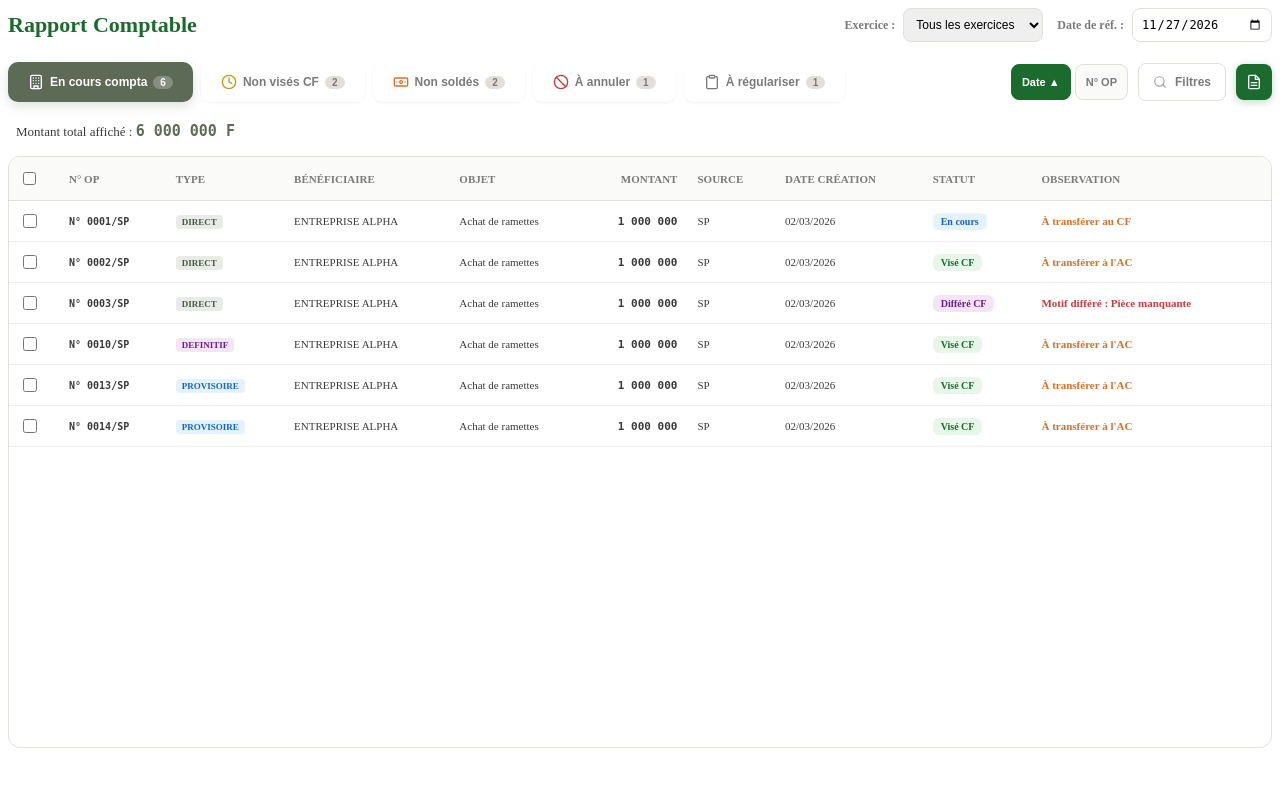
Test case: Rapport — À régulariser › le délai de régularisation est compté en jours calendaires
Type "2026-03-23" into the date field at (1202,25), box x1=1132 y1=8 x2=1272 y2=42
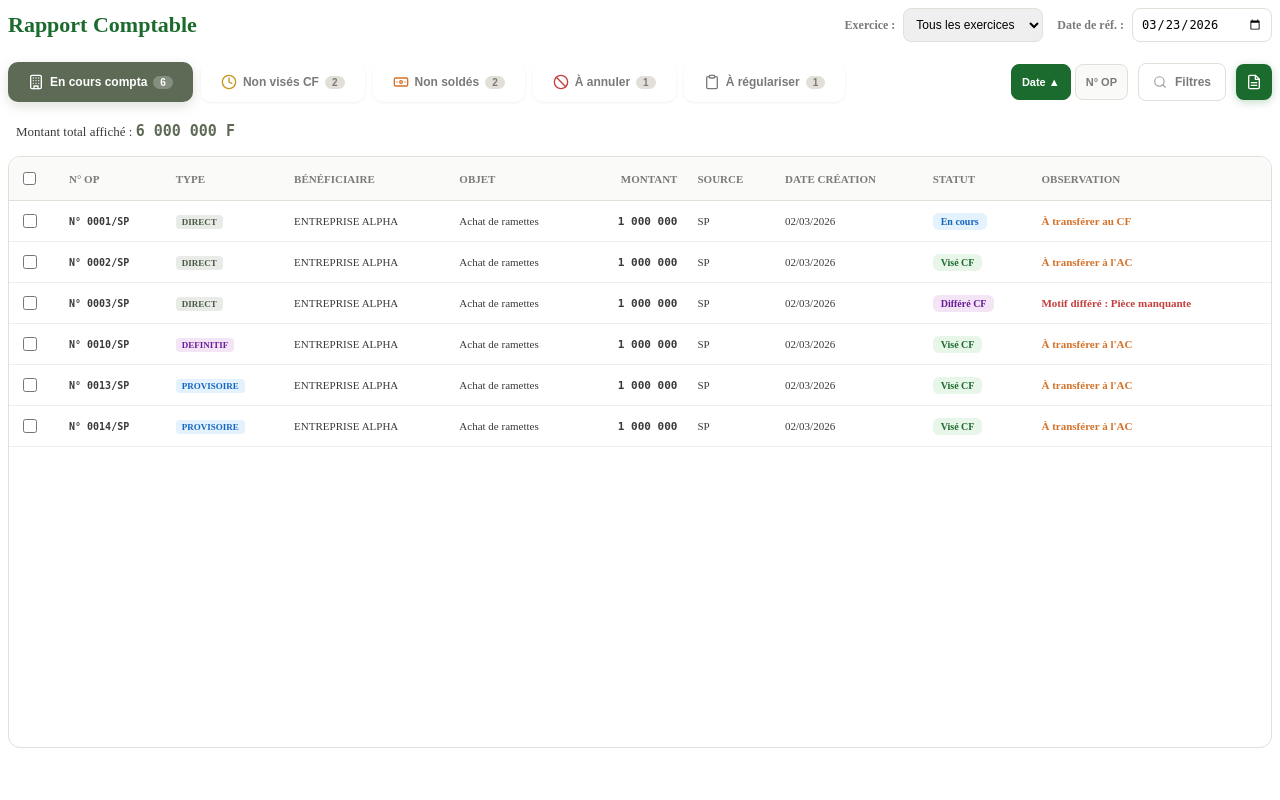
Click the button "À régulariser 1" at (764,82), box x1=684 y1=62 x2=845 y2=102
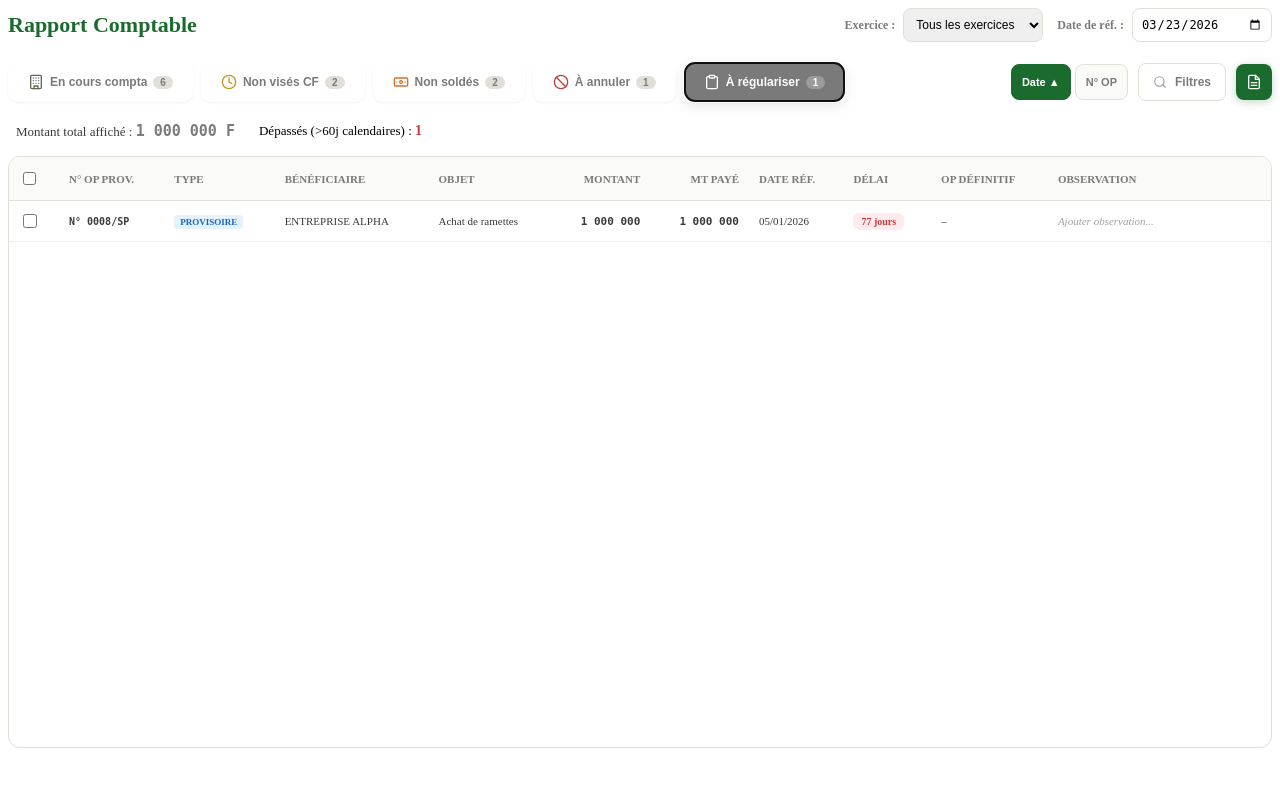
Check: the text "77 jours" is shown, box x1=854 y1=213 x2=904 y2=230
